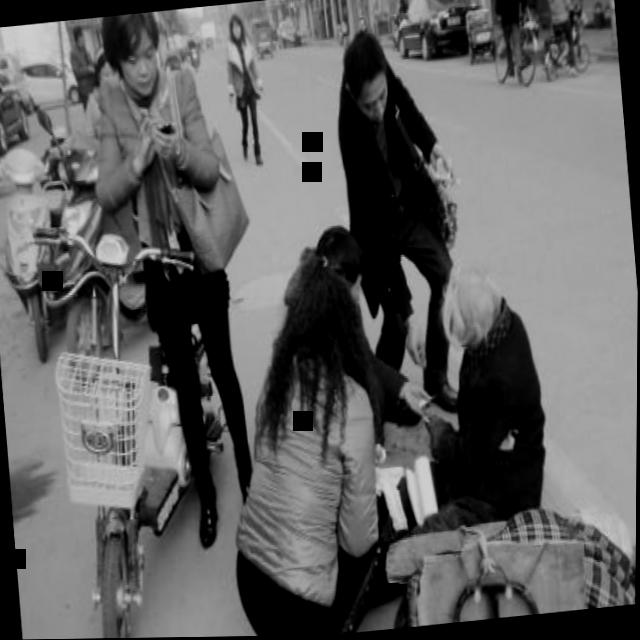Fall-Detected: (367, 240, 570, 592)
